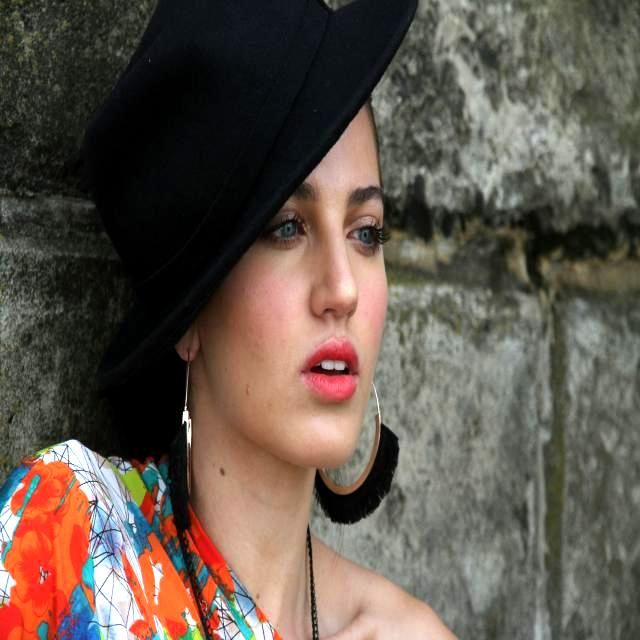no_hard_hat: (85, 0, 418, 392)
person: (0, 0, 455, 640)
